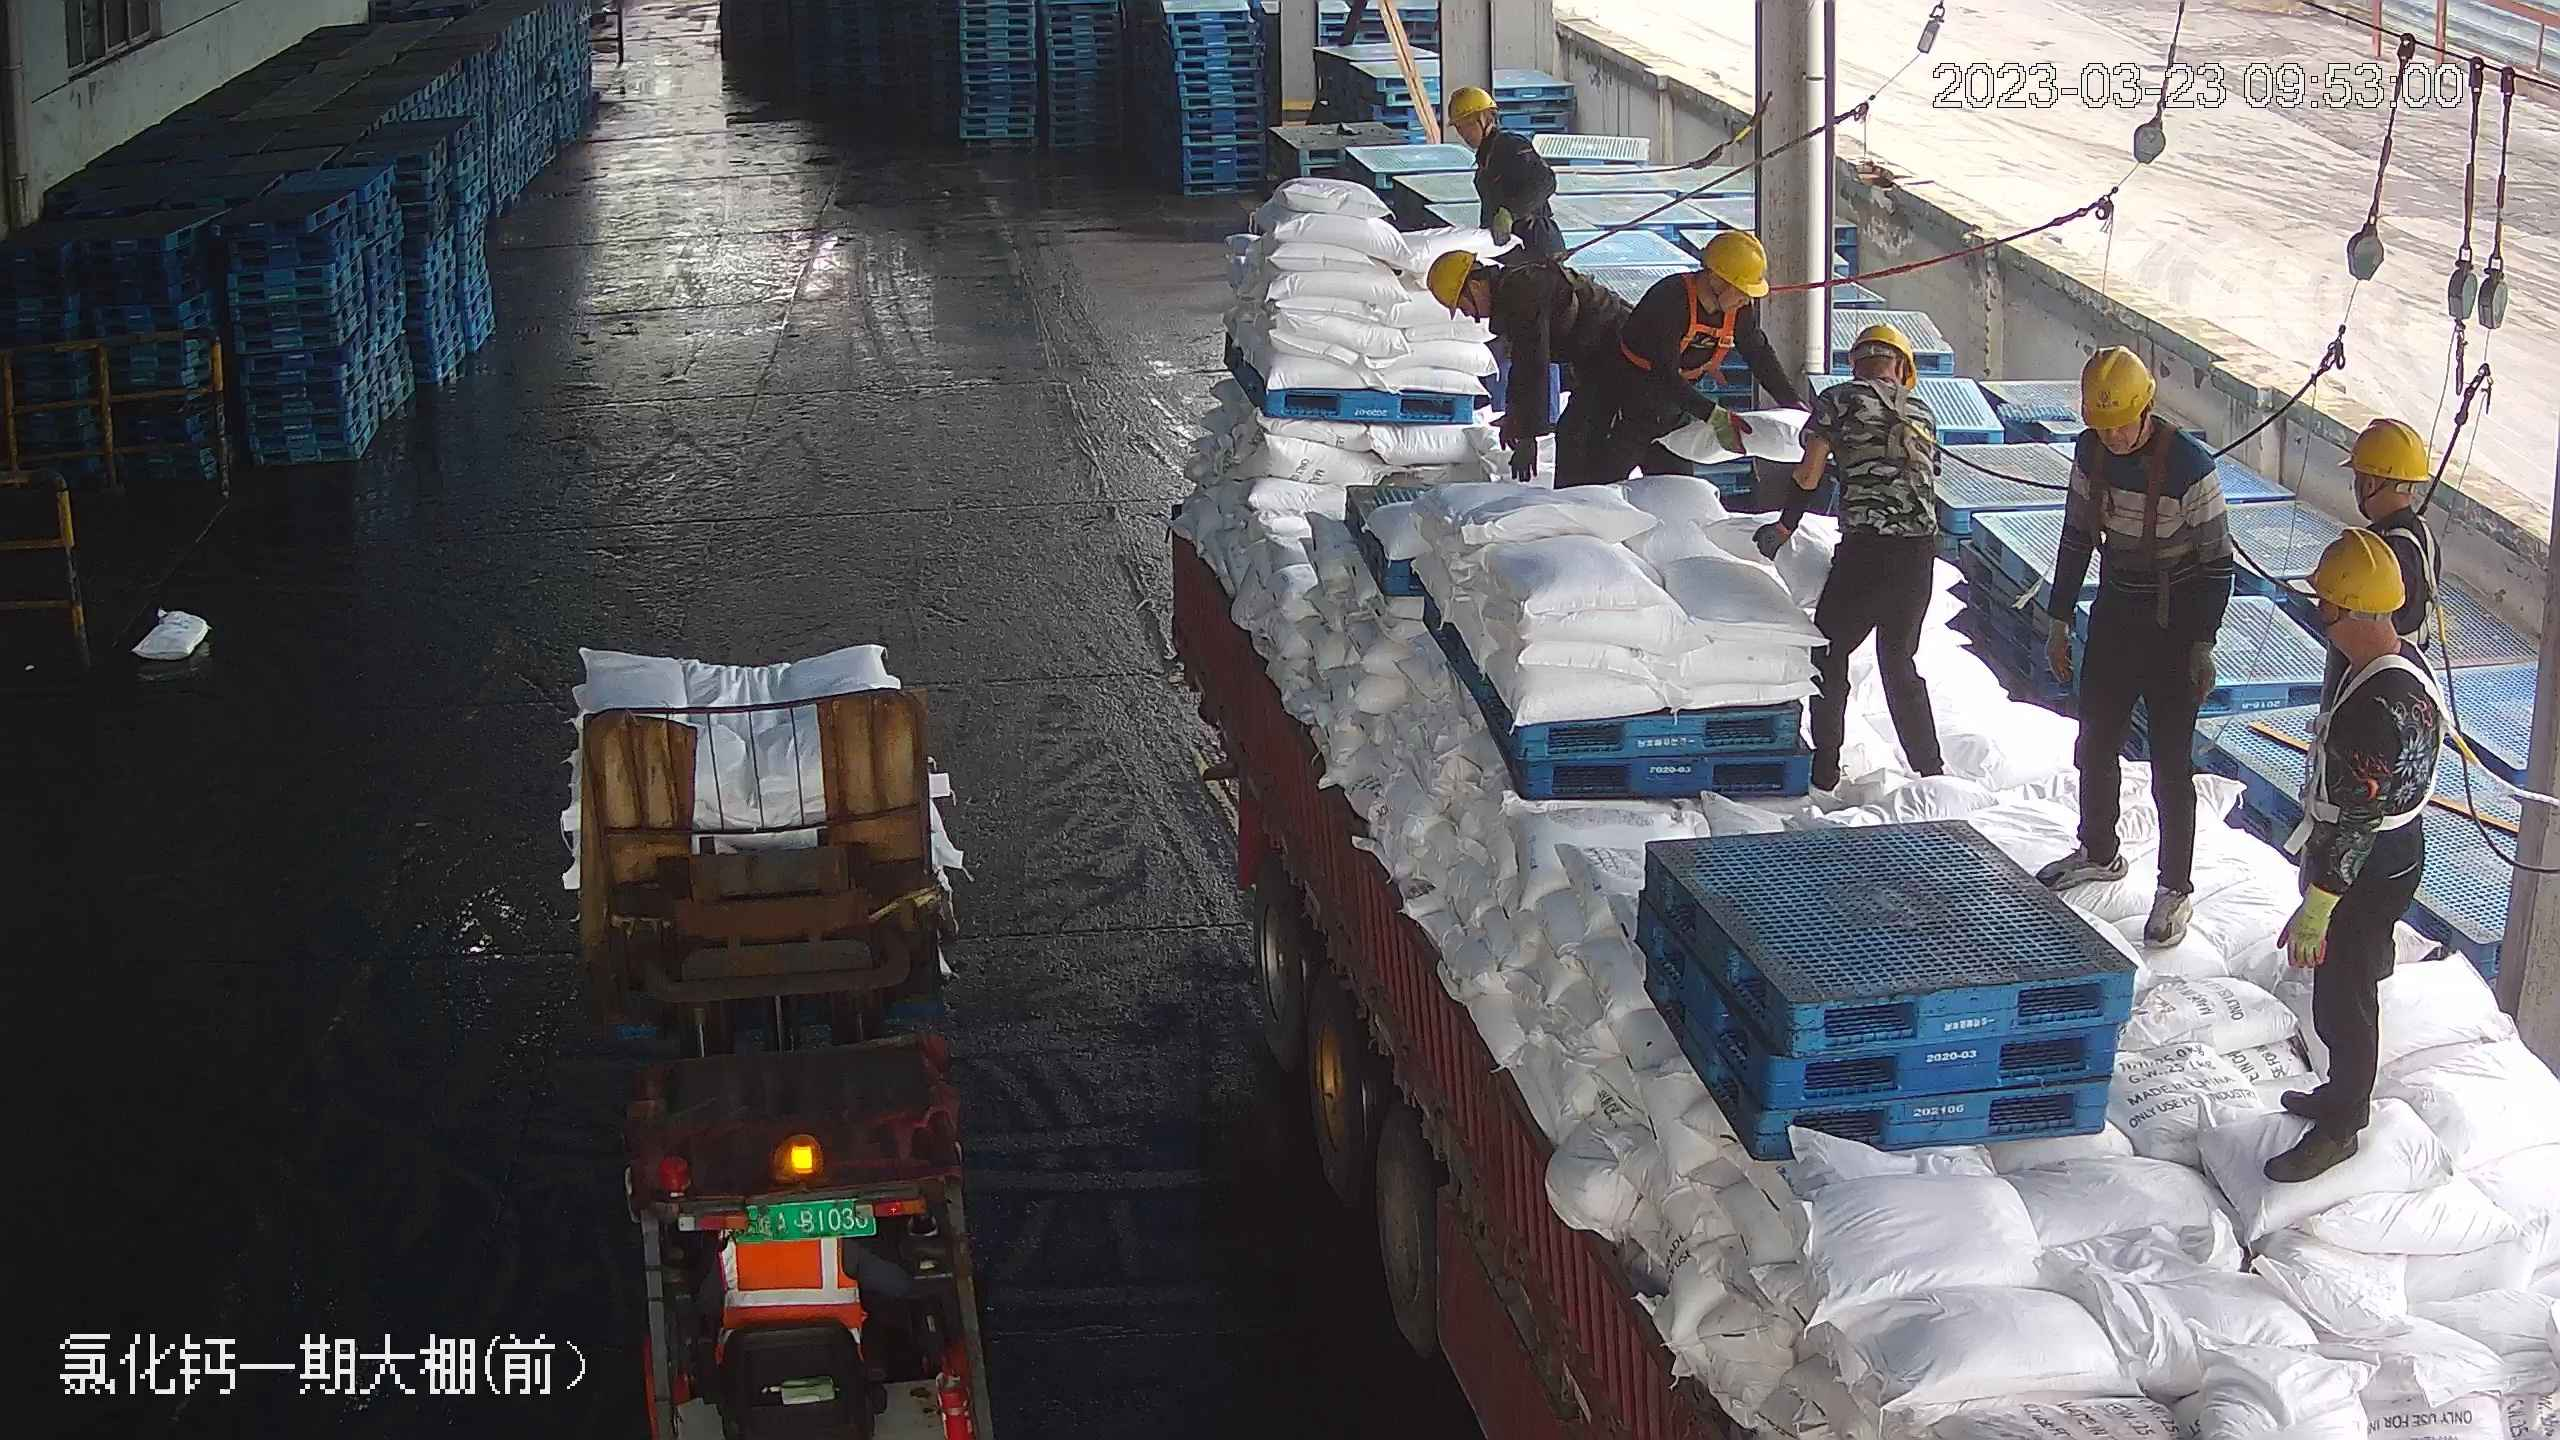belt: (2322, 651, 2470, 825), (2082, 420, 2199, 553), (1836, 381, 1949, 487), (1654, 275, 1758, 382), (1493, 247, 1590, 338), (2372, 505, 2450, 617), (1484, 128, 1567, 201)
head: (2287, 526, 2444, 754), (2054, 339, 2218, 511), (2318, 415, 2447, 575), (1804, 319, 1941, 466), (1637, 227, 1776, 363), (1427, 244, 1558, 353), (1444, 86, 1548, 187)
helmet: (1642, 226, 1775, 354), (2300, 522, 2411, 614), (2077, 341, 2158, 428), (2341, 414, 2435, 482), (1700, 228, 1768, 298), (1849, 319, 1918, 383), (1424, 248, 1476, 313), (1445, 84, 1499, 124)
people: (2033, 340, 2234, 950), (2260, 535, 2441, 1182), (1748, 316, 1951, 792), (1426, 241, 1636, 483), (1595, 226, 1791, 484), (1444, 80, 1566, 254)
truck: (1153, 122, 2547, 1440)
